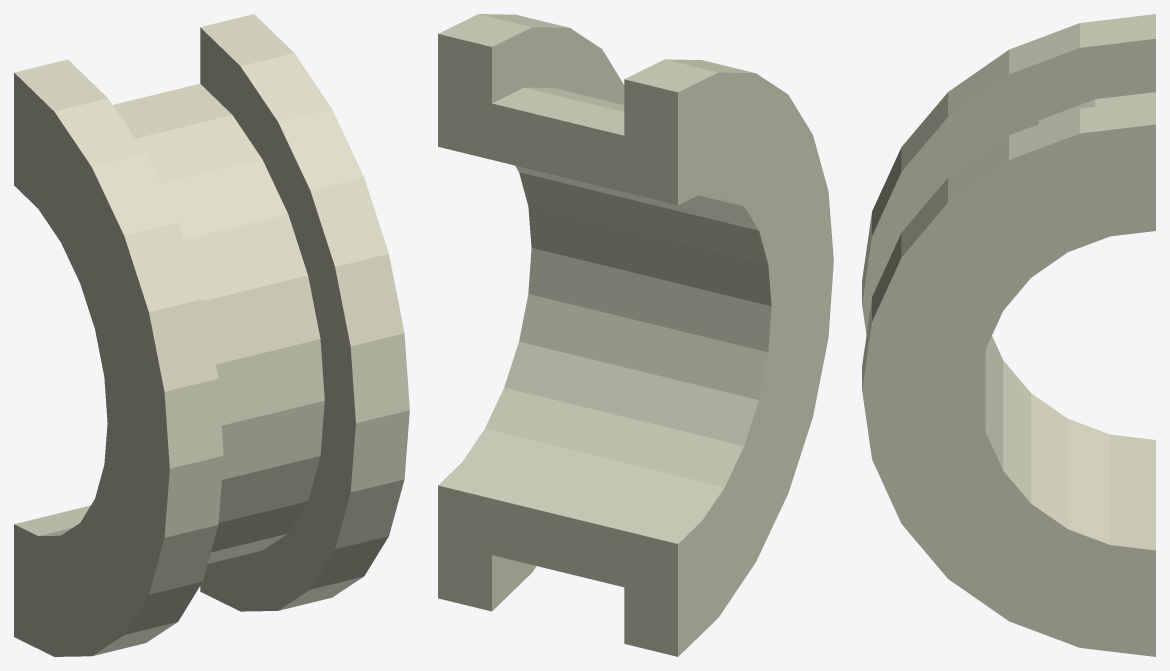
The model's file is section_377.obj.
3 renders of one model, left to right at view 1: azimuth 30°, elevation 25°; view 2: azimuth 150°, elevation 25°; view 3: azimuth 270°, elevation 25°, orthographic. The views are drawn at different scales.
Size of the model in its own units: 4.45 by 10 by 5.
